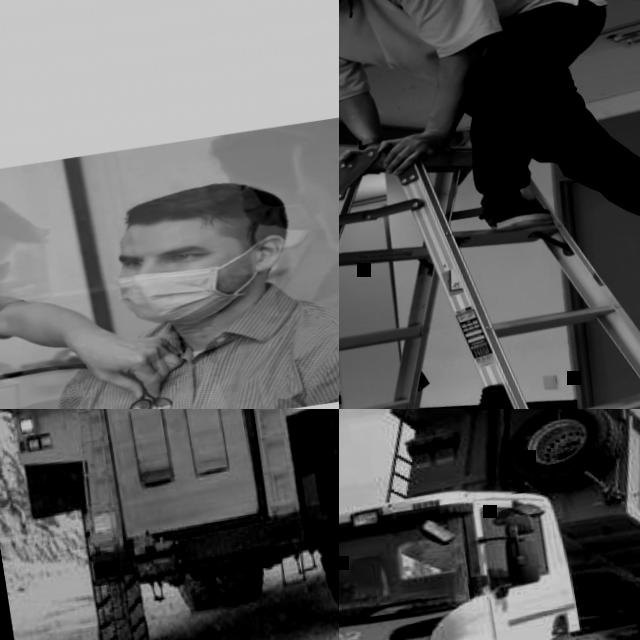machinery: (0, 409, 339, 640), (339, 409, 640, 640)
mask: (116, 258, 232, 334), (242, 178, 306, 236), (308, 211, 339, 264)
no_helmet: (116, 170, 290, 254), (202, 124, 290, 180), (0, 180, 49, 260), (293, 108, 339, 177), (0, 343, 25, 378)
no_vest: (339, 0, 585, 92)
person: (339, 0, 640, 332), (26, 148, 339, 409), (0, 145, 174, 409), (216, 120, 328, 229), (292, 109, 339, 331), (0, 174, 53, 302)
